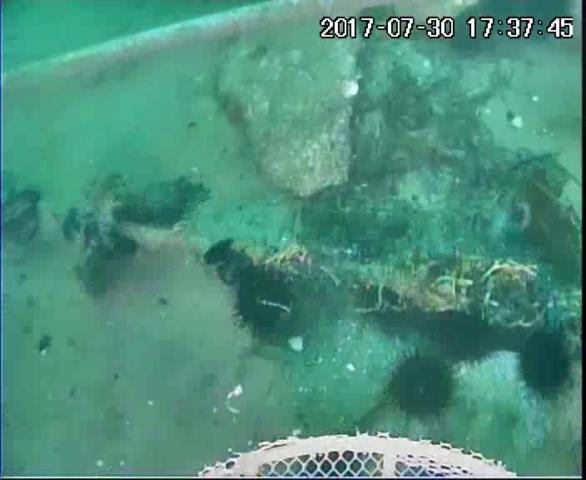echinus: (389, 351, 457, 422), (521, 324, 576, 400), (238, 267, 297, 330), (437, 309, 496, 369)
